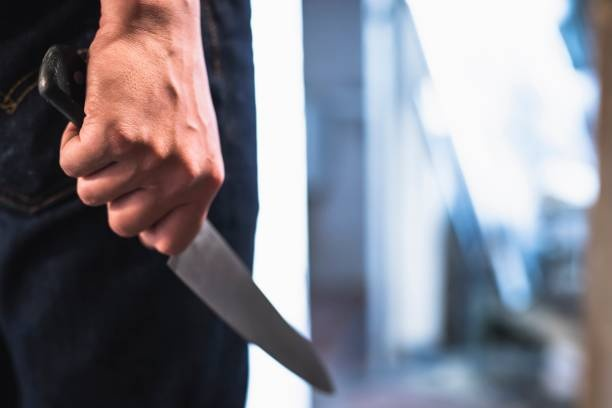knife: (35, 42, 339, 397)
